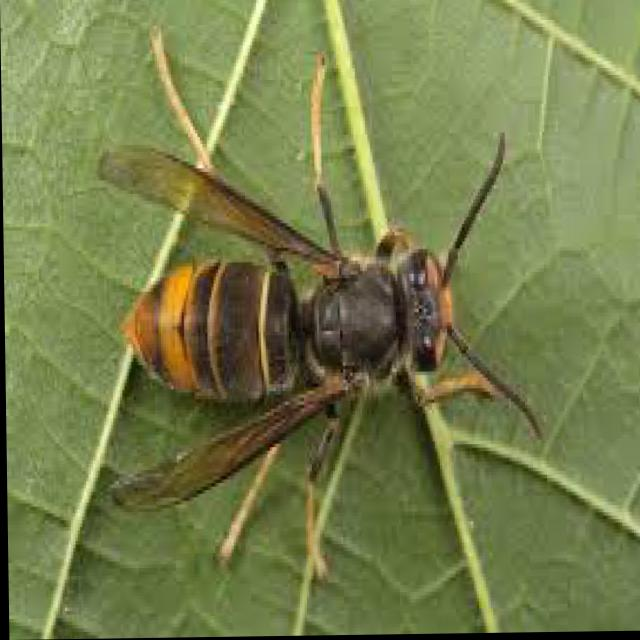Vespa Velutina: (87, 19, 546, 586)
